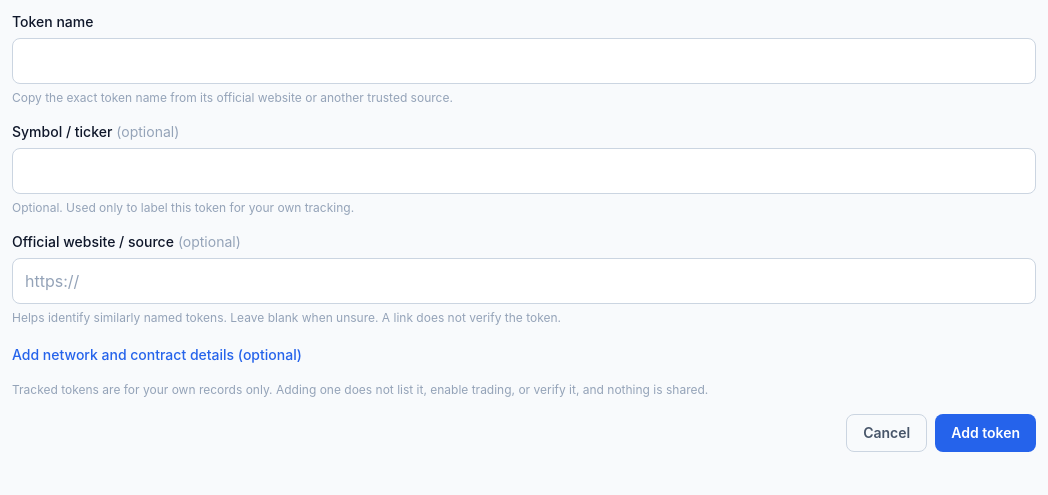
it: CustomTokenForm › blocks an empty name, focuses it, and does not submit
The width and height of the screenshot is (1048, 495).
Click the button "Add token" at x=986, y=433, box x1=935 y1=414 x2=1036 y2=452
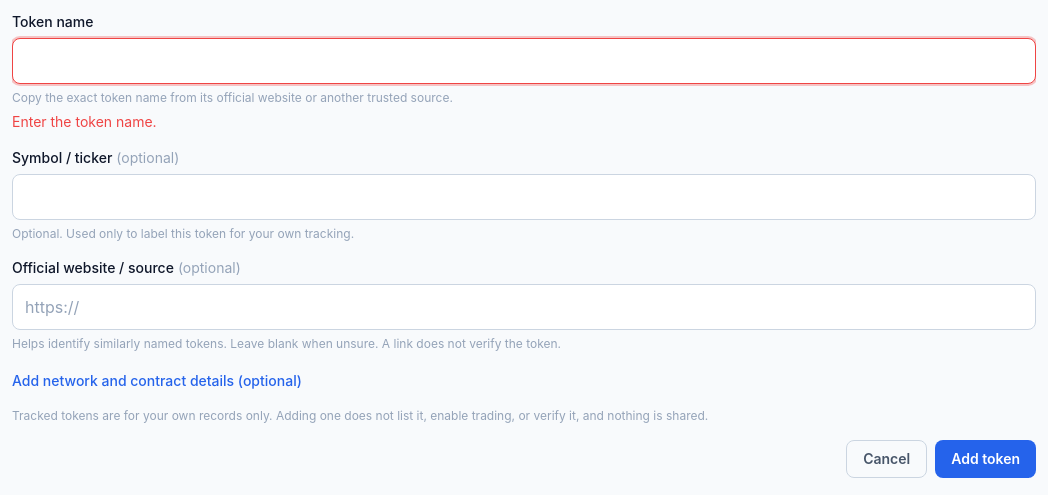
Expected: the text "Enter the token name." is shown, x1=12 y1=113 x2=157 y2=130
